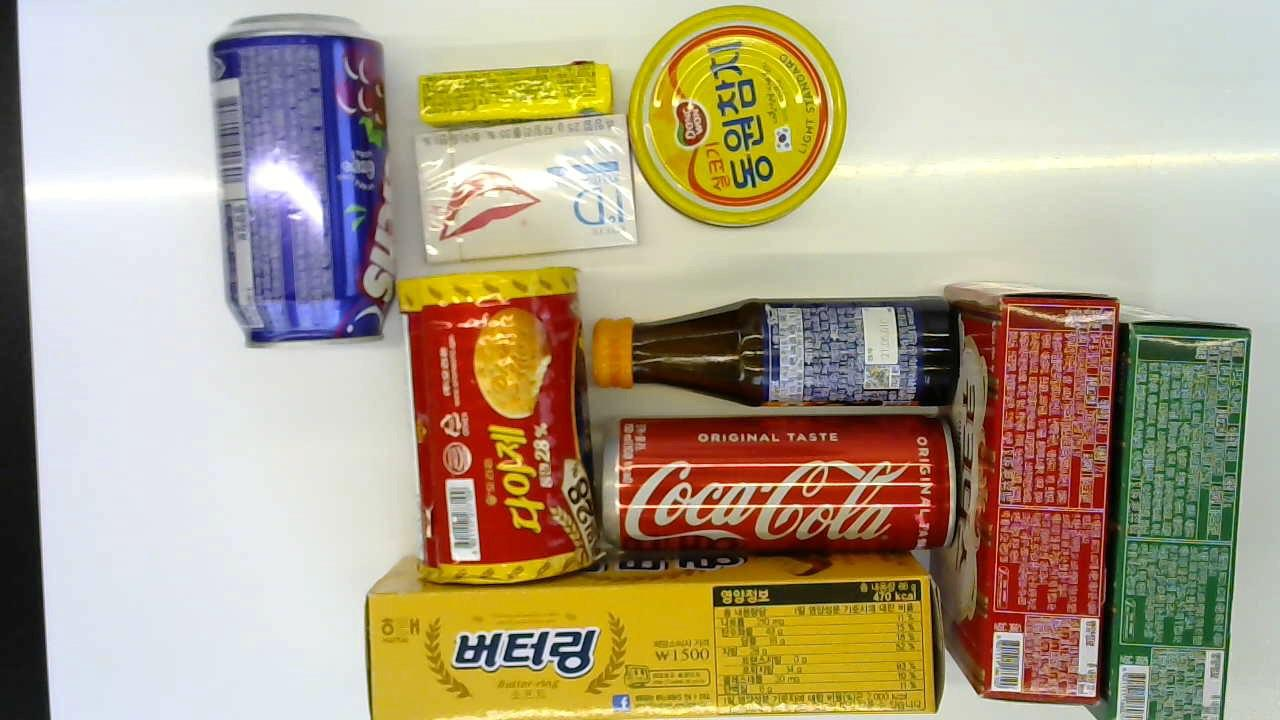ID_gum: (406, 106, 639, 259)
buttering: (366, 563, 947, 720)
coke: (602, 416, 964, 561)
couque_coffee: (1094, 323, 1256, 720)
couque_white: (929, 283, 1113, 705)
diget_ori: (403, 263, 592, 573)
juicyfresh: (416, 54, 620, 128)
tuna: (624, 3, 841, 227)
vita500: (598, 292, 959, 417)
welchs: (203, 14, 394, 343)
